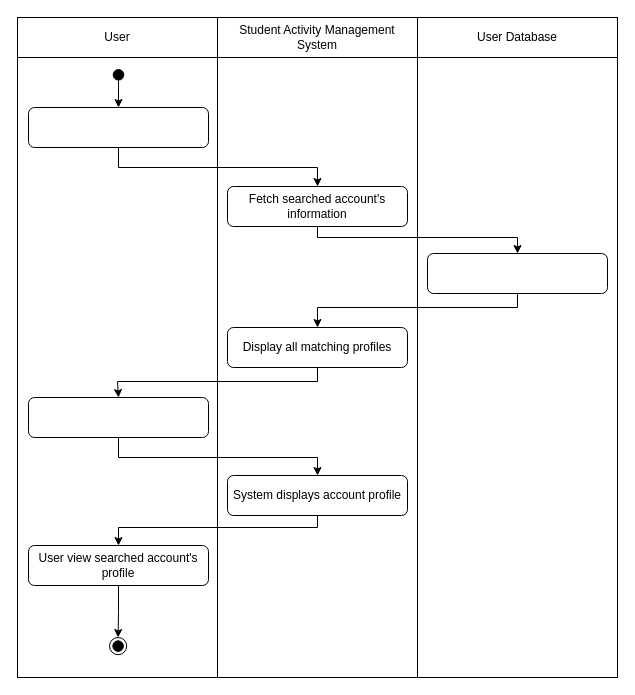
Some shapes in this 635 by 695 pixel diagram are drawn without their labels. The shapes that lost their labels are listed below. From the top down, each one's box as (x1, y1, x2, y2) in pixels, then its label:
(28, 106, 208, 148): User types name or ID in search bar
(426, 252, 608, 294): Retrieve searched account's information
(28, 396, 208, 438): User clicks on desired account to view
